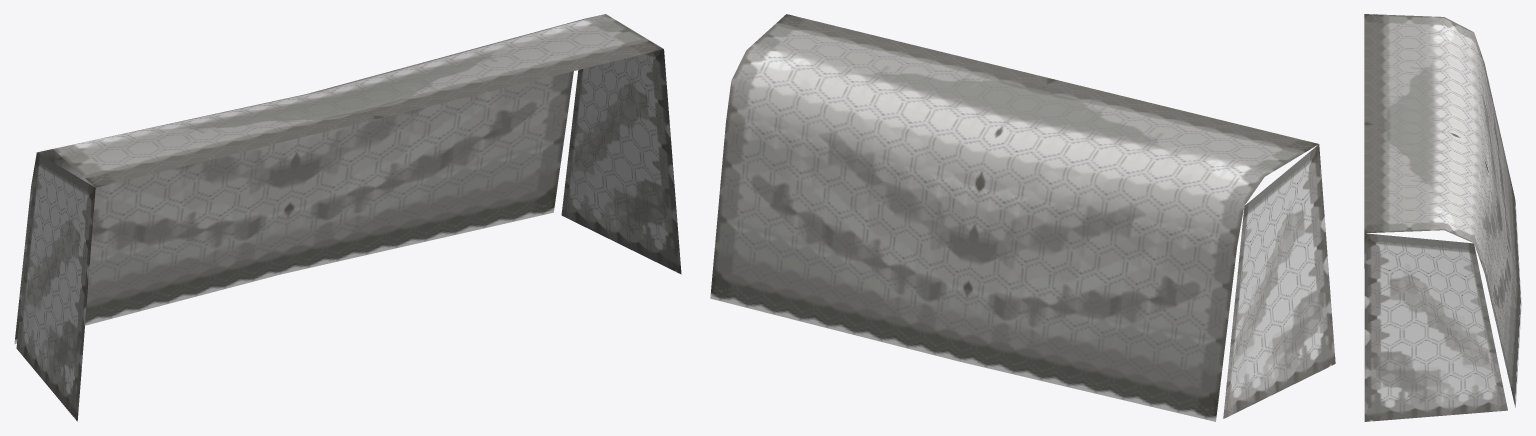
File: Block_QiuMen_Wang.FBX
3 renders of one model, left to right at view 1: azimuth 30°, elevation 25°; view 2: azimuth 150°, elevation 25°; view 3: azimuth 270°, elevation 25°, orthographic. The views are drawn at different scales.
Parts seen in each view (by area): view 1: Block_QiuMen_Wang; view 2: Block_QiuMen_Wang; view 3: Block_QiuMen_Wang.
Boxes of the visible parts, box(x1,y1,x2,y2) form: Block_QiuMen_Wang: box(14, 14, 681, 421); Block_QiuMen_Wang: box(710, 14, 1335, 421); Block_QiuMen_Wang: box(1364, 14, 1521, 421).
Bounding box in the file's own units: 752 × 274 × 214.
